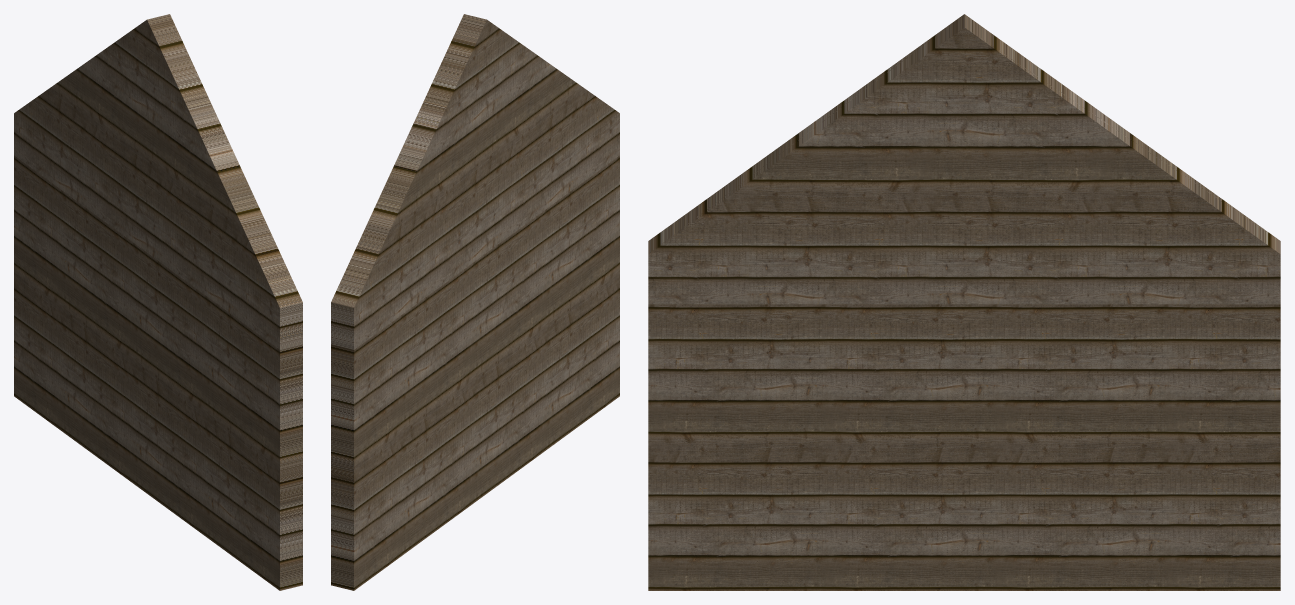
File: R1_Kiri.fbx
3 renders of one model, left to right at view 1: azimuth 30°, elevation 25°; view 2: azimuth 150°, elevation 25°; view 3: azimuth 270°, elevation 25°, orthographic. The views are drawn at different scales.
Parts seen in each view (by area): view 1: Cube.006; view 2: Cube.006; view 3: Cube.006.
Part boxes in pixels (left/top/right/bottom): Cube.006: left=14, top=14, right=302, bottom=590; Cube.006: left=331, top=14, right=619, bottom=590; Cube.006: left=648, top=14, right=1280, bottom=590.
Bounding box in the file's own units: 0.7 × 13.77 × 14.
Materials: 1 (1 with a texture image).
